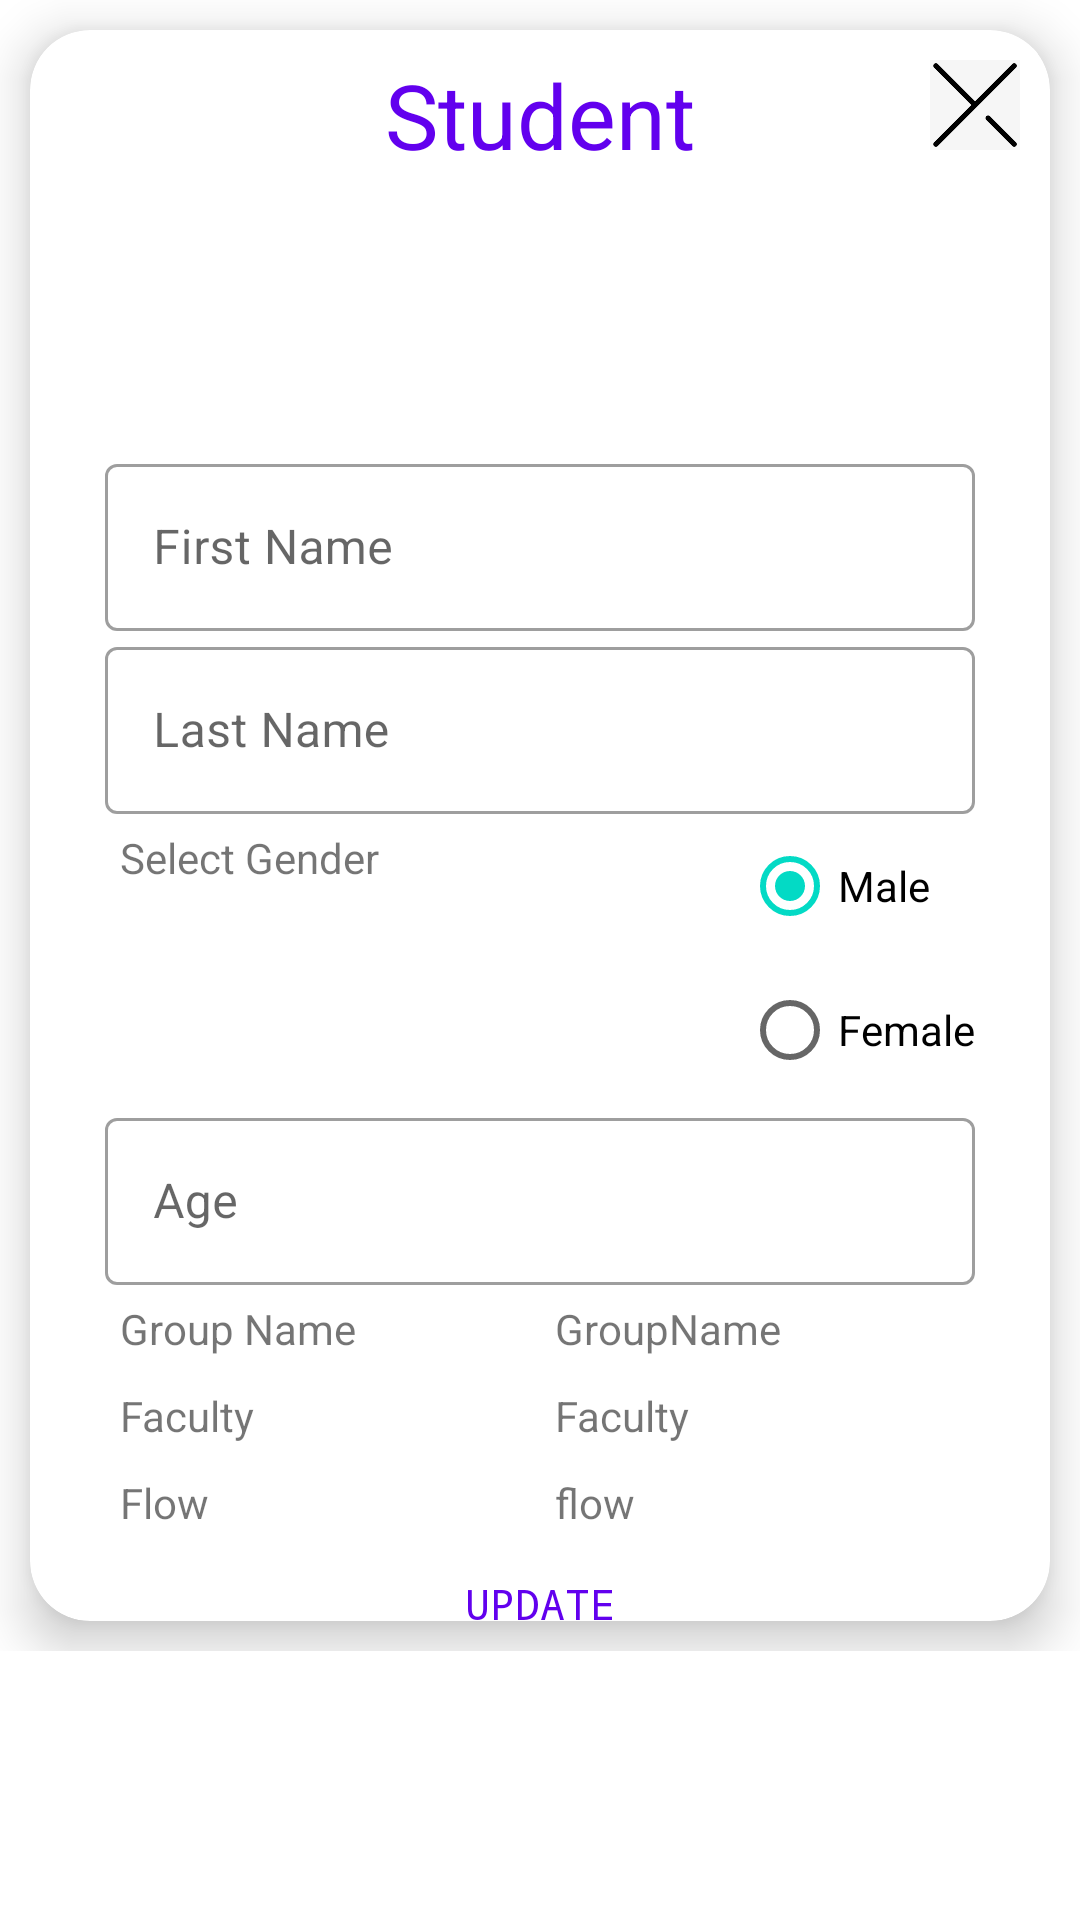

Icons on this 1080×1920 Android screen, each with its box as (x1, y1, x2, y2):
close: (933, 31, 1017, 147)
